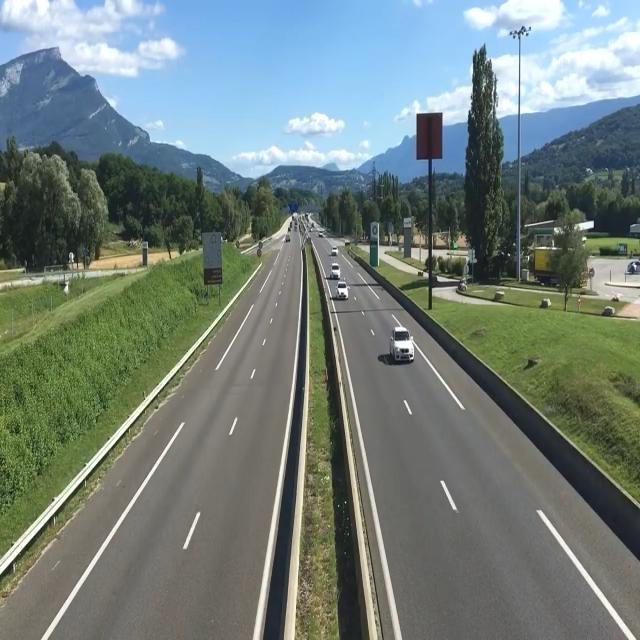Car: (389, 327, 415, 363), (335, 281, 350, 298), (330, 263, 340, 279), (331, 245, 339, 256)
